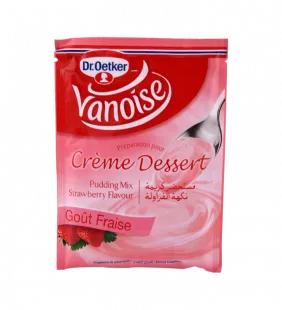Promotion: (43, 27, 237, 284)
